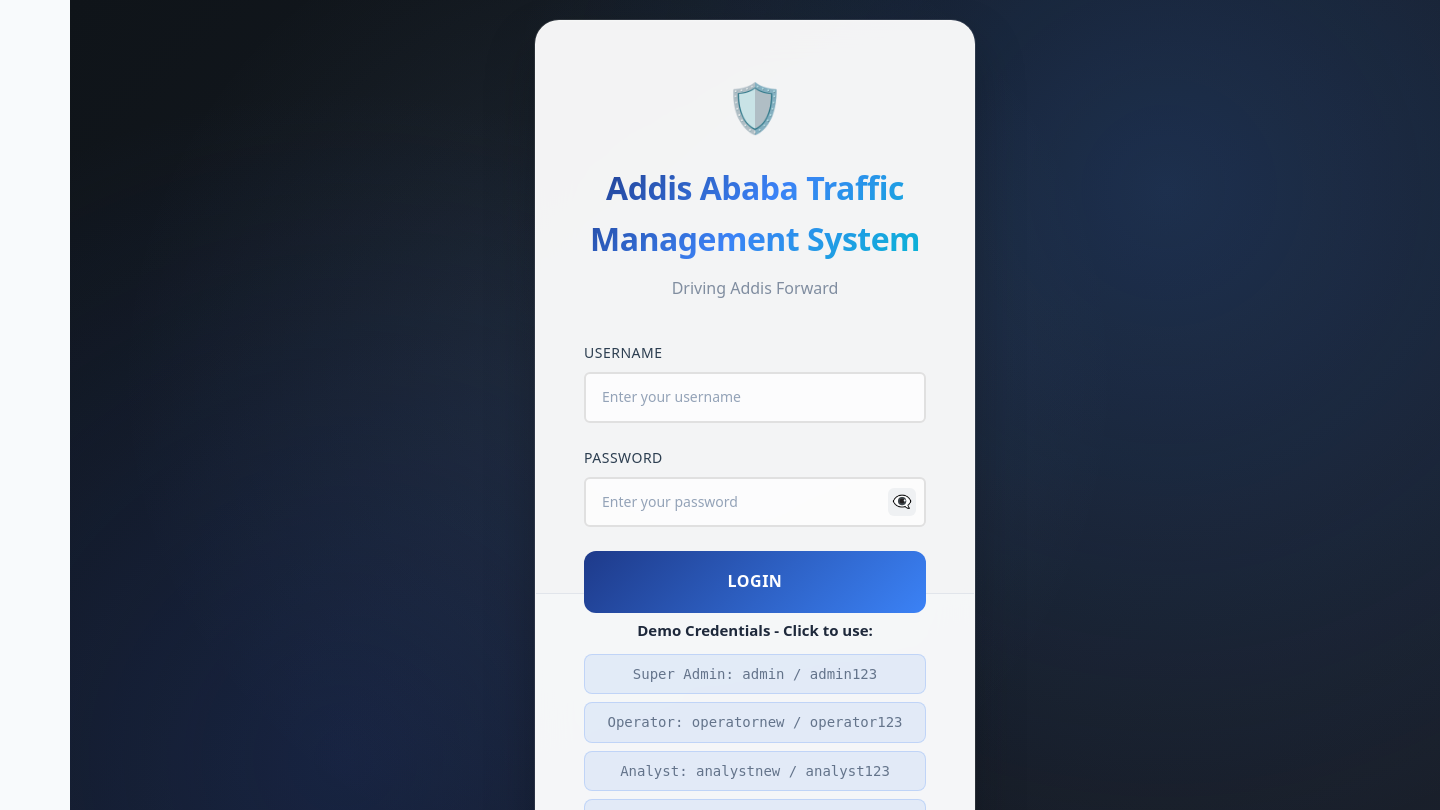
Test: Login › demo login fills fields
Click the text "Super Admin: admin / admin123" at (755, 674), box [584,654,926,694]
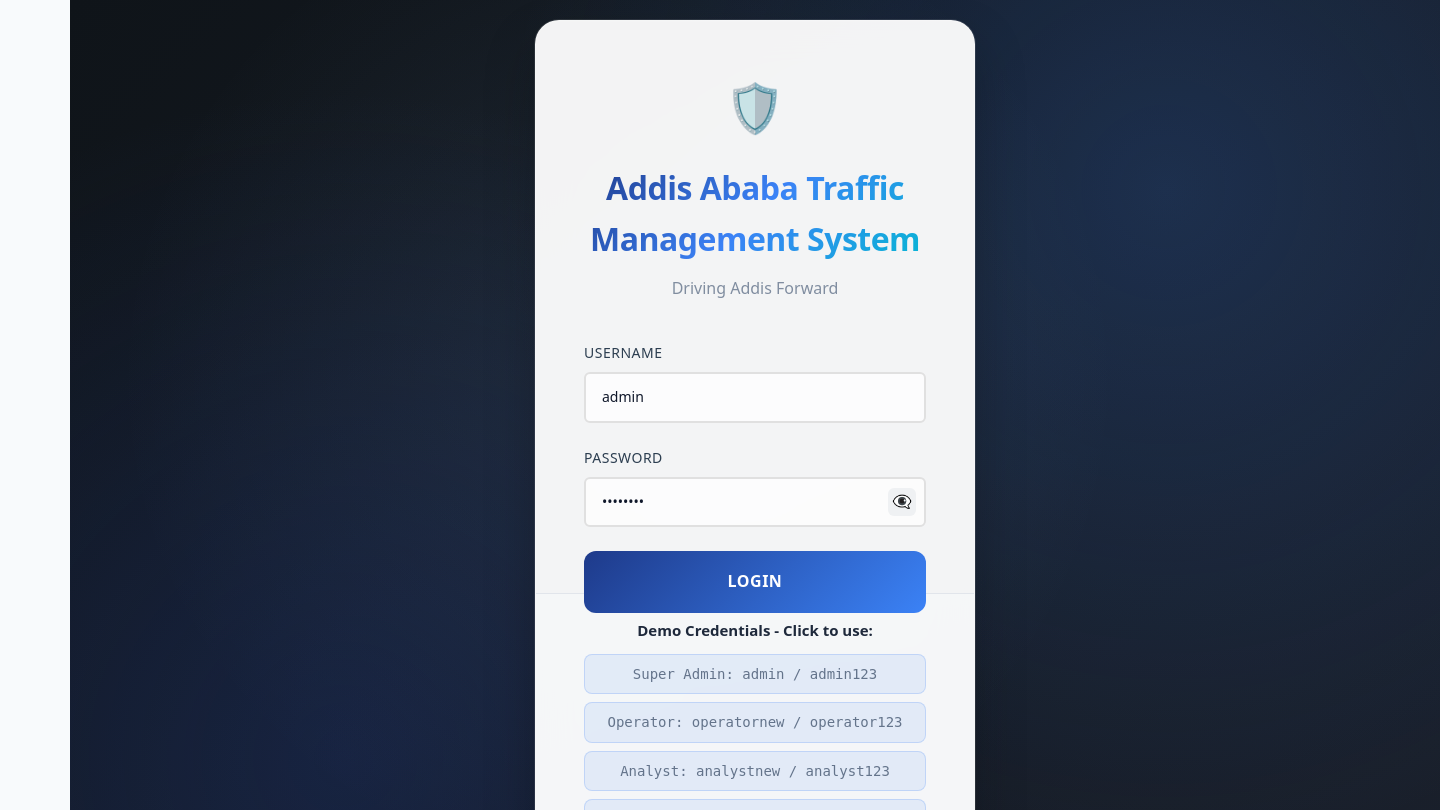
Now the field labelled "Username" holds "admin", box [584,372,926,423]
